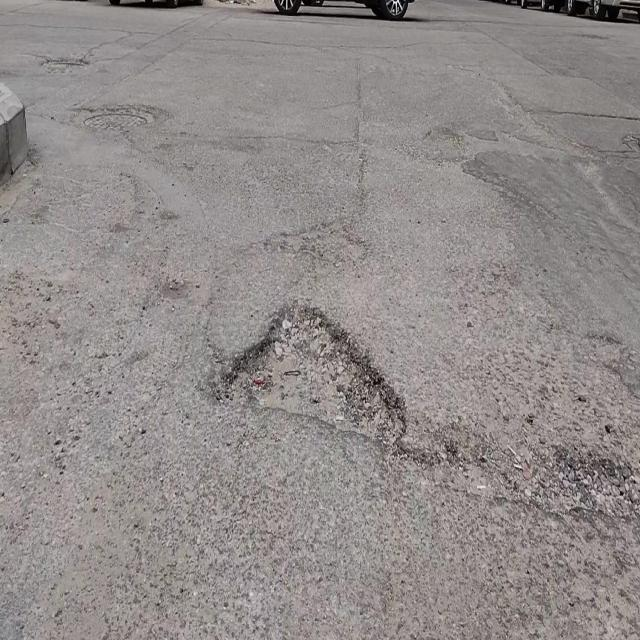Pothole: (224, 301, 409, 448)
